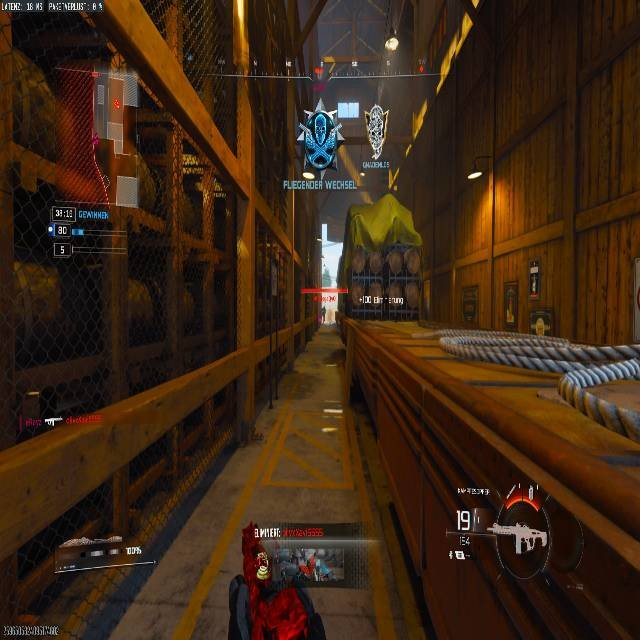player: (299, 551, 319, 583), (319, 296, 332, 323), (321, 299, 328, 322)
